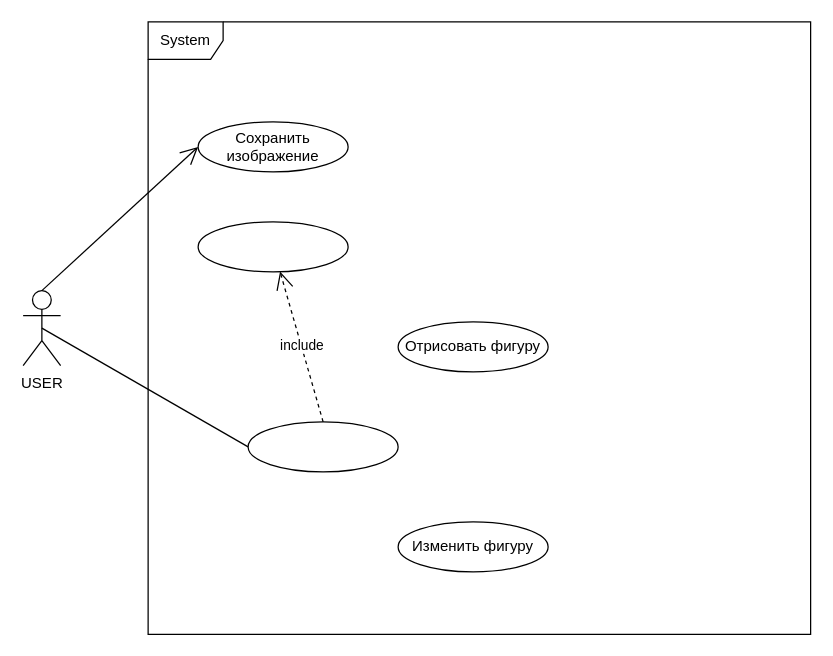
Some shapes in this 833 by 656 pixel diagram are drawn without their labels. Here are the shapes that lost their labels. From the top down, the box of each, then its label:
(197, 221, 348, 272): Выбрать фигуру
(247, 421, 398, 472): Поместить фигуру на холст
